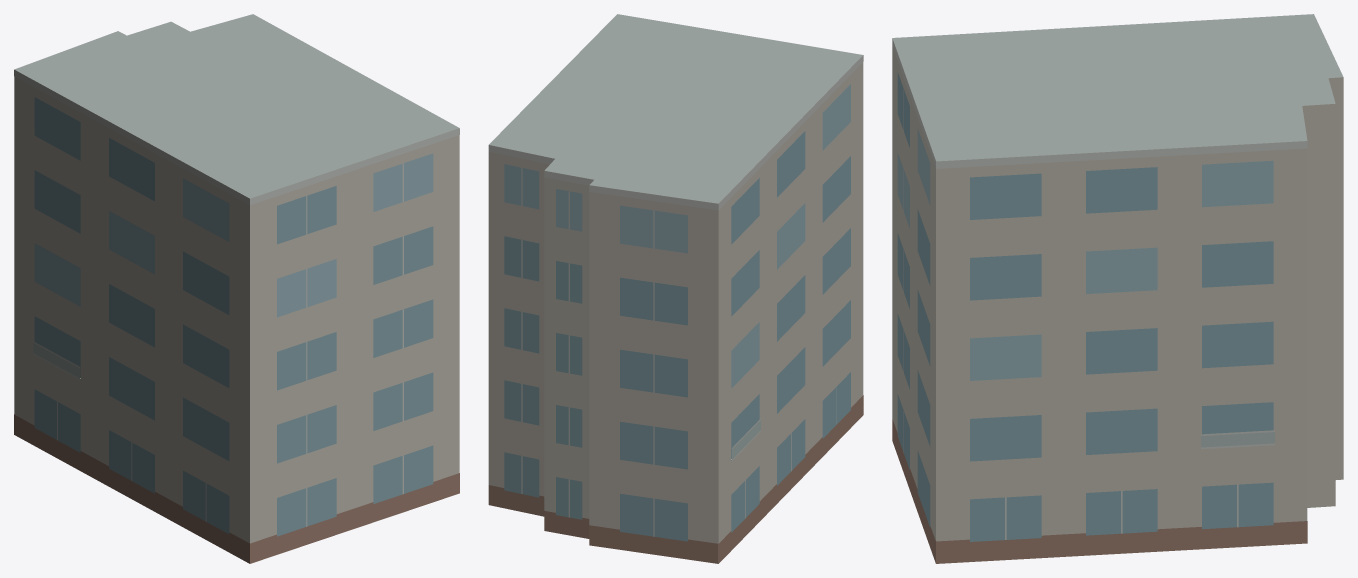
File: survey-upis-32747907.glb
The picture shows the model from 3 angles, left to right: view 1: azimuth 30°, elevation 25°; view 2: azimuth 150°, elevation 25°; view 3: azimuth 270°, elevation 25°; orthographic projection. The views are drawn at different scales.
Visible parts, largest first — view 1: survey-upis-32747907.tmp; view 2: survey-upis-32747907.tmp; view 3: survey-upis-32747907.tmp.
Part boxes in pixels (<box>): survey-upis-32747907.tmp: <box>14,14,459,563</box>; survey-upis-32747907.tmp: <box>488,14,863,563</box>; survey-upis-32747907.tmp: <box>892,14,1343,563</box>.
Bounding box in the file's own units: 10.38 × 13.2 × 13.43.
